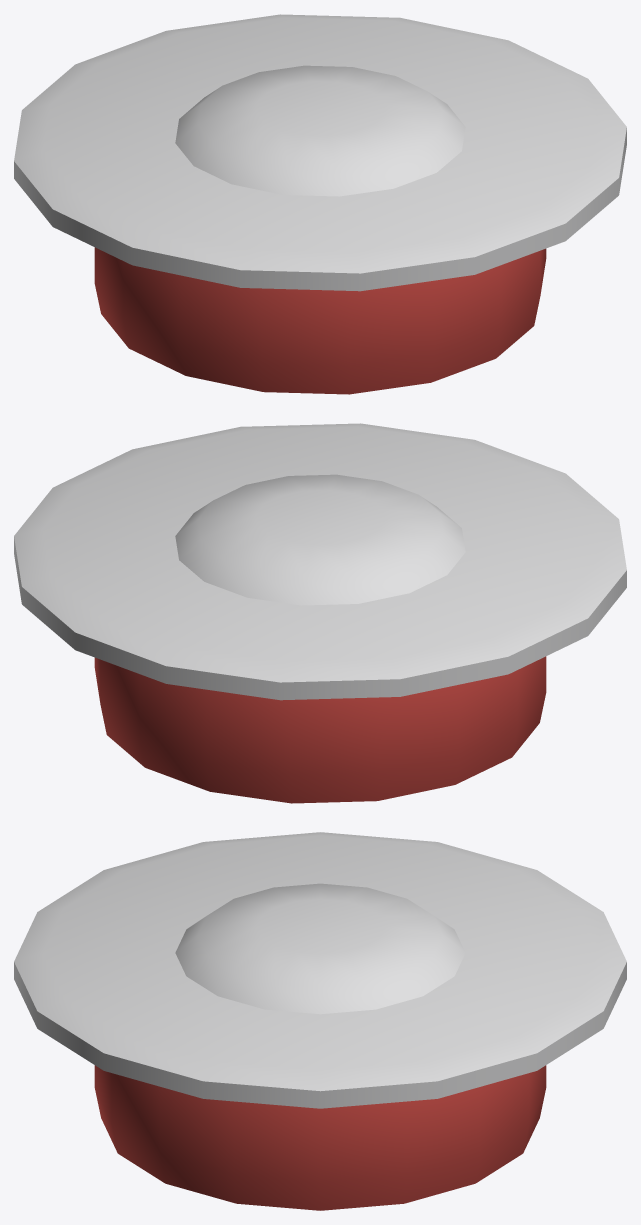
Rendered from cleaner_lod1.glb.
The picture shows the model from 3 angles, top to bottom: view 1: azimuth 30°, elevation 25°; view 2: azimuth 150°, elevation 25°; view 3: azimuth 270°, elevation 25°; orthographic projection.
Visible parts, largest first — view 1: cleaner_lod1; view 2: cleaner_lod1; view 3: cleaner_lod1.
Boxes of the visible parts, left/top/right/bottom form: cleaner_lod1: left=14, top=14, right=626, bottom=394; cleaner_lod1: left=14, top=423, right=626, bottom=803; cleaner_lod1: left=14, top=832, right=626, bottom=1210.
Bounding box in the file's own units: 0.19 × 0.0655 × 0.19.
